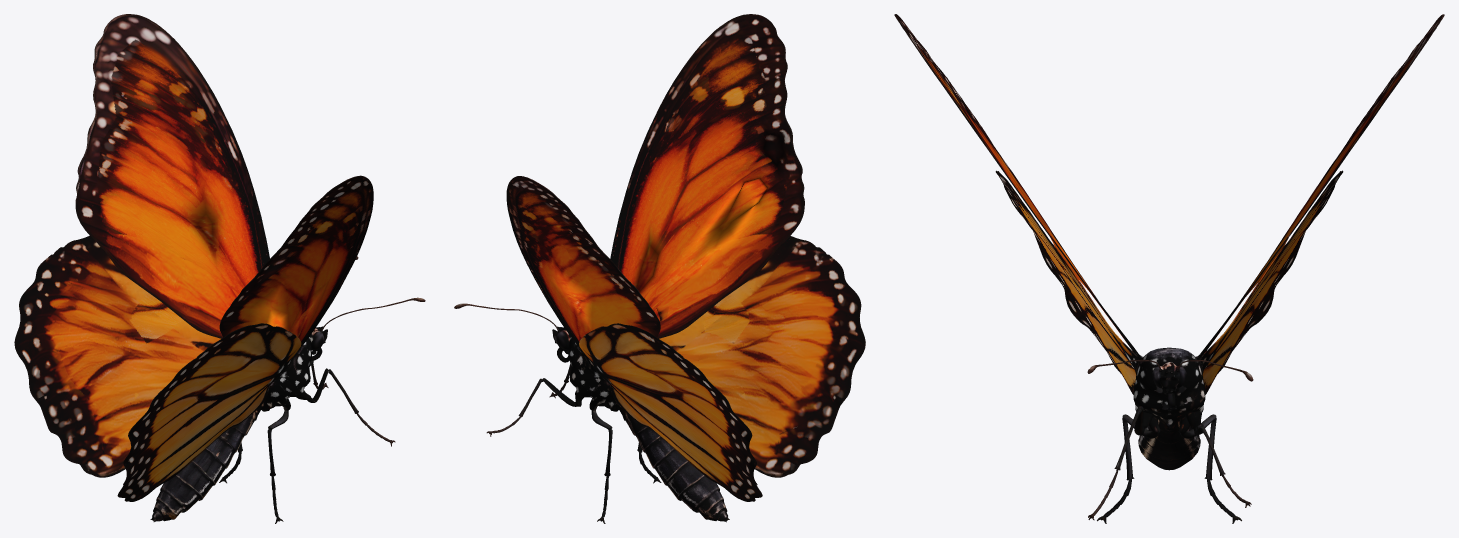
File: monarch-butterfly.glb
The picture shows the model from 3 angles, left to right: view 1: azimuth 30°, elevation 25°; view 2: azimuth 150°, elevation 25°; view 3: azimuth 270°, elevation 25°; orthographic projection. The views are drawn at different scales.
Parts seen in each view (by area): view 1: tripo_2ab9b2e0_3ea6_4464_903c_6d9c32157c95; view 2: tripo_2ab9b2e0_3ea6_4464_903c_6d9c32157c95; view 3: tripo_2ab9b2e0_3ea6_4464_903c_6d9c32157c95.
Boxes of the visible parts, box(x1,y1,x2,y2) form: tripo_2ab9b2e0_3ea6_4464_903c_6d9c32157c95: box(14, 14, 425, 523); tripo_2ab9b2e0_3ea6_4464_903c_6d9c32157c95: box(454, 14, 865, 523); tripo_2ab9b2e0_3ea6_4464_903c_6d9c32157c95: box(894, 14, 1444, 523).
Size of the model in its own units: 0.813 by 0.9956 by 0.9995.
1 material, 1 textured.
